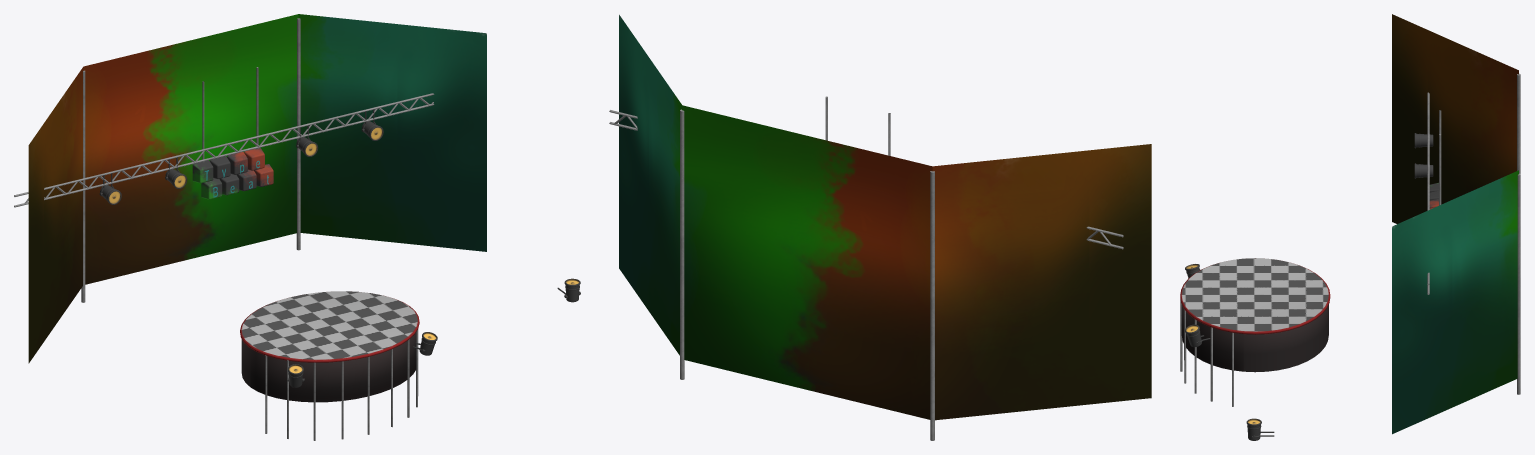
3 views of the same model, side by side, from view 1: azimuth 30°, elevation 25°; view 2: azimuth 150°, elevation 25°; view 3: azimuth 270°, elevation 25° (orthographic). The views are drawn at different scales.
Visible parts, largest first — view 1: pCube2, tex2, pCylinder14 (×2), pCylinder39, pCylinder7, pCylinder13; view 2: pCube2, pCylinder7, pCylinder39; view 3: pCube2, tex2, pCylinder39, pCylinder7.
Part boxes in pixels (box(x1,y1,x2,y2)): pCube2: box(28, 14, 486, 363); tex2: box(240, 291, 419, 402); pCylinder14 (×2): box(14, 93, 434, 196); pCylinder39: box(296, 18, 300, 250); pCylinder7: box(81, 70, 85, 302); pCylinder13: box(14, 151, 235, 207); pCube2: box(619, 14, 1151, 420); pCylinder7: box(930, 171, 934, 440); pCylinder39: box(680, 109, 684, 379); pCube2: box(1392, 14, 1518, 434); tex2: box(1180, 258, 1330, 372); pCylinder39: box(1517, 173, 1520, 394); pCylinder7: box(1517, 73, 1520, 173).
Size of the model in its own units: 14.63 by 7.71 by 9.48.
